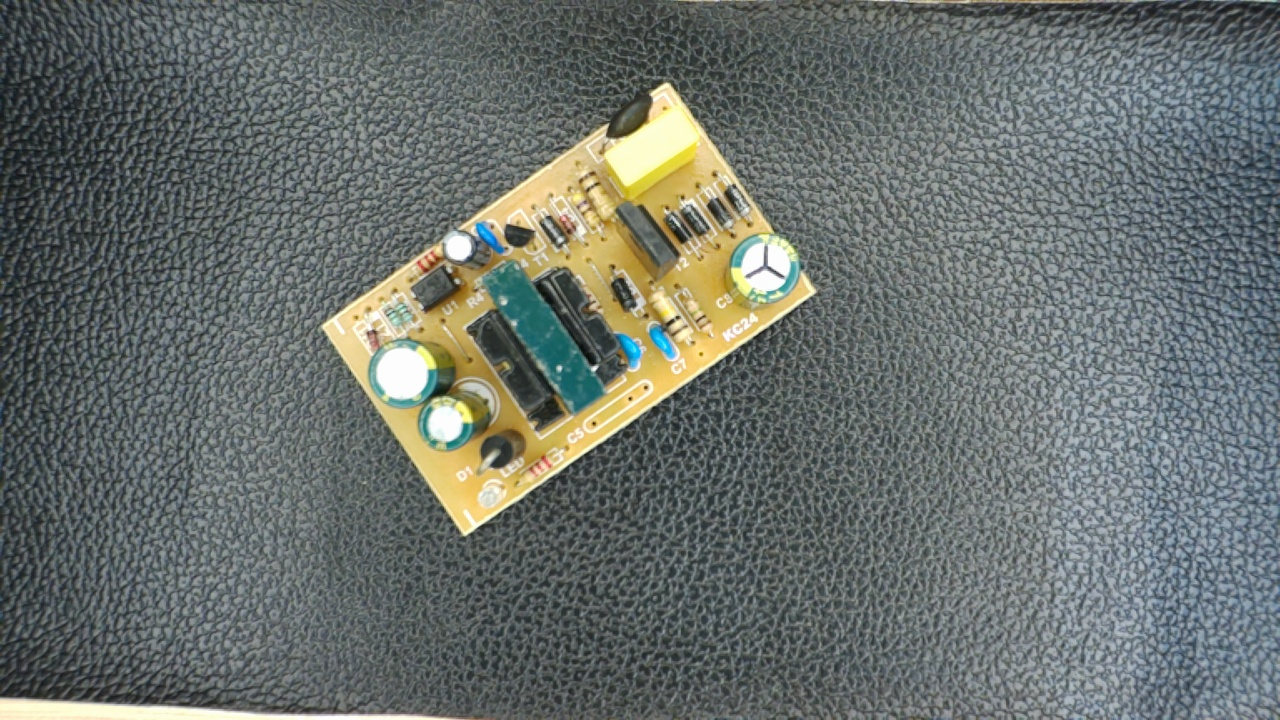fuse: (594, 89, 656, 159)
hv_capacitor: (722, 228, 800, 311)
optocoupler: (401, 264, 462, 311)
